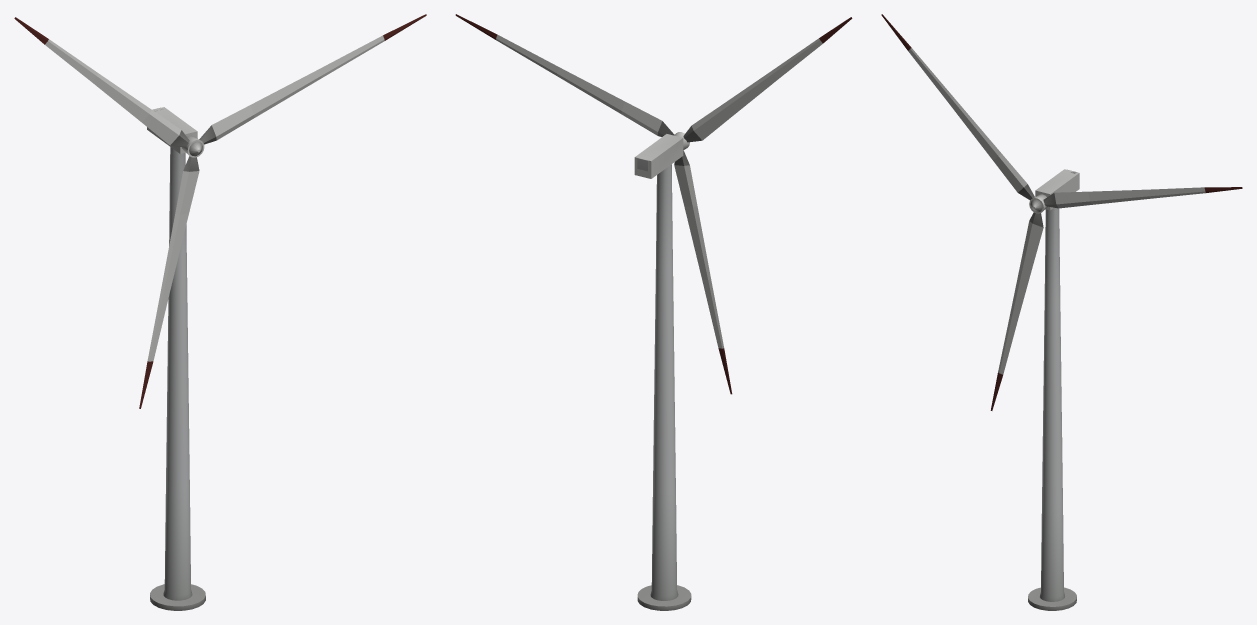
File: windrad.glb
The picture shows the model from 3 angles, left to right: view 1: azimuth 30°, elevation 25°; view 2: azimuth 150°, elevation 25°; view 3: azimuth 330°, elevation 25°; orthographic projection. The views are drawn at different scales.
Visible parts, largest first — view 1: lack, teil; view 2: lack, teil; view 3: lack, teil.
Boxes of the visible parts, x1,y1,x2,y2 form: lack: [147, 107, 205, 610]; teil: [14, 14, 426, 408]; lack: [634, 134, 691, 610]; teil: [455, 14, 852, 394]; lack: [1028, 169, 1079, 610]; teil: [881, 14, 1242, 410].
Bounding box in the file's own units: 93.11 × 137 × 17.05.
